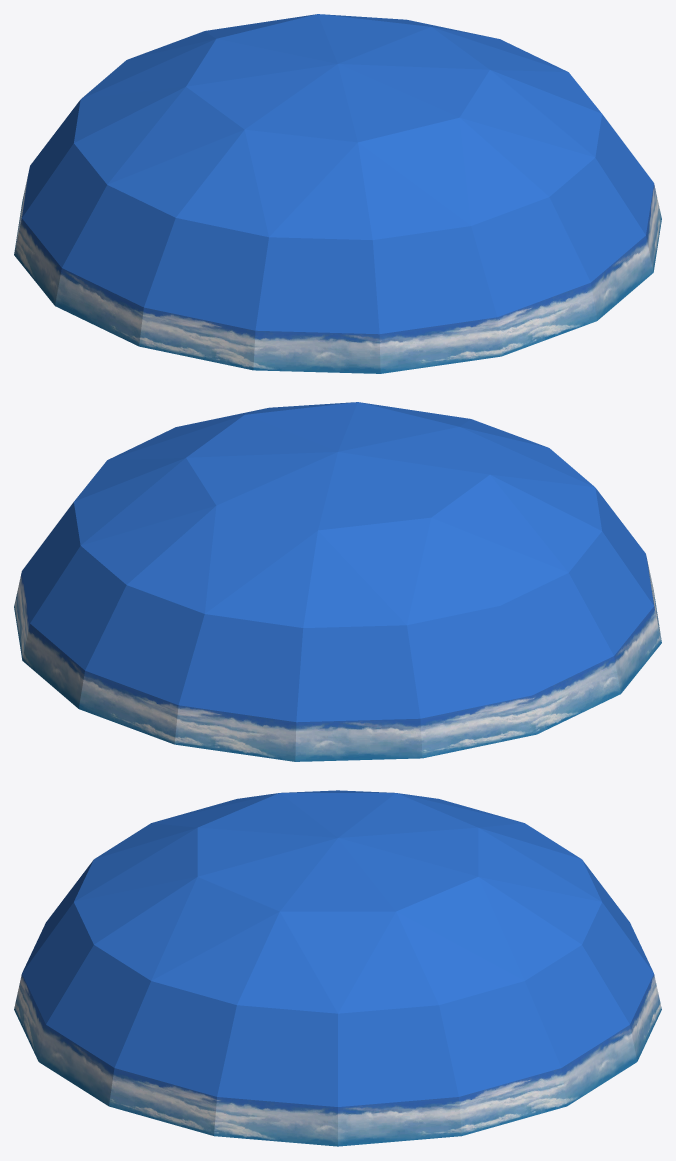
The picture shows the model from 3 angles, top to bottom: view 1: azimuth 30°, elevation 25°; view 2: azimuth 150°, elevation 25°; view 3: azimuth 270°, elevation 25°; orthographic projection.
Visible parts, largest first — view 1: s03_dn_04_1, s03_dn_04_0; view 2: s03_dn_04_1, s03_dn_04_0; view 3: s03_dn_04_1, s03_dn_04_0.
Boxes of the visible parts, left/top/right/bottom form: s03_dn_04_1: left=22, top=14, right=653, bottom=334; s03_dn_04_0: left=14, top=168, right=661, bottom=373; s03_dn_04_1: left=22, top=402, right=653, bottom=722; s03_dn_04_0: left=14, top=556, right=661, bottom=761; s03_dn_04_1: left=22, top=790, right=653, bottom=1106; s03_dn_04_0: left=14, top=974, right=661, bottom=1146.
Size of the model in its own units: 100000 by 29220 by 100000.
